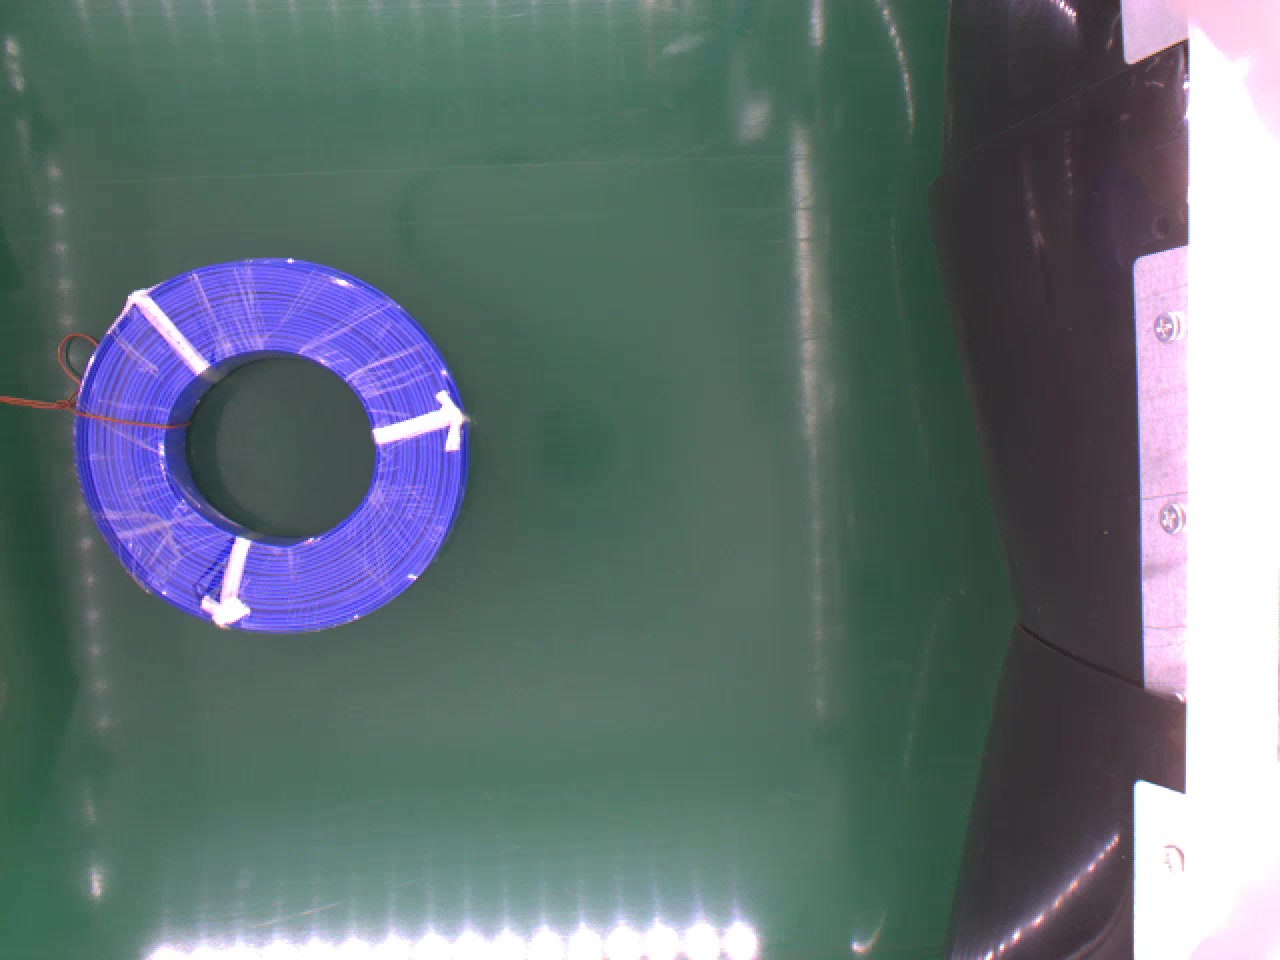blue: (76, 251, 469, 633)
